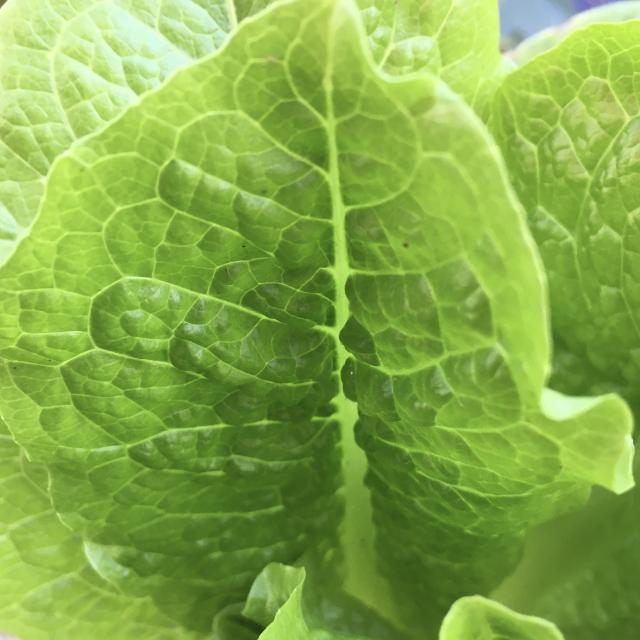Healthy Lettuce: (3, 2, 635, 636)
